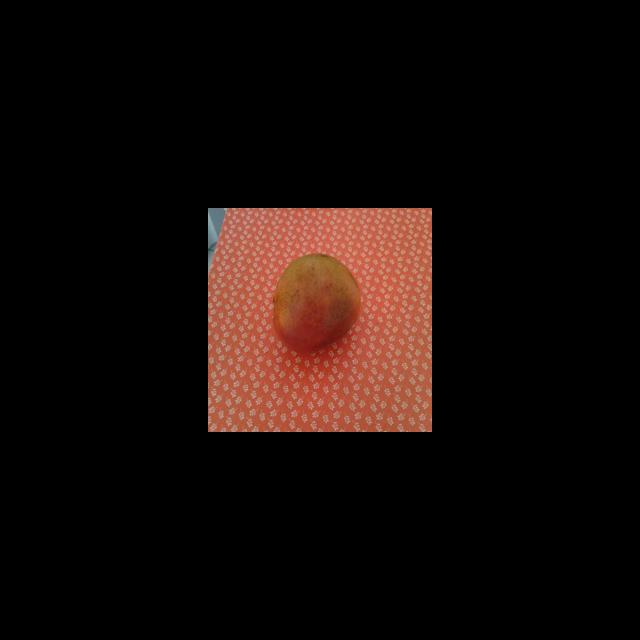Mango: (271, 252, 361, 352)
